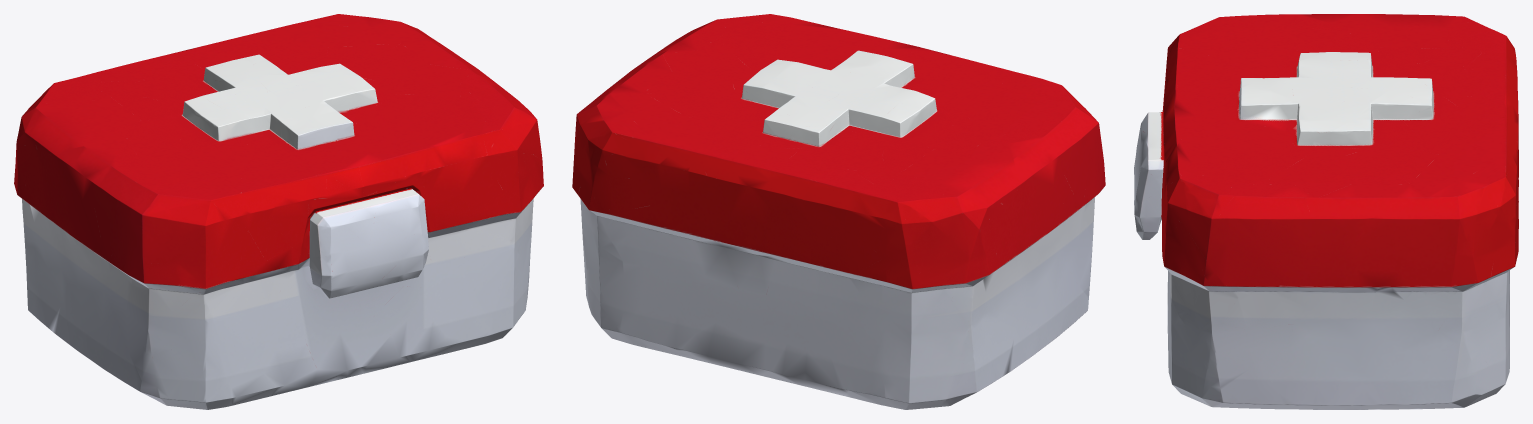
The model's file is Meshy_AI_first_aid_kit_3d_0917235244_image-to-3d-texture.fbx.
3 views of the same model, side by side, from view 1: azimuth 30°, elevation 25°; view 2: azimuth 150°, elevation 25°; view 3: azimuth 270°, elevation 25° (orthographic). The views are drawn at different scales.
Visible parts, largest first — view 1: Mesh_0; view 2: Mesh_0; view 3: Mesh_0.
Boxes of the visible parts, x1=… form: Mesh_0: x1=14, y1=14, x2=543, y2=409; Mesh_0: x1=572, y1=14, x2=1105, y2=409; Mesh_0: x1=1134, y1=14, x2=1518, y2=409.
Size of the model in its own units: 190 by 98.7 by 149.
1 material, 1 textured.
